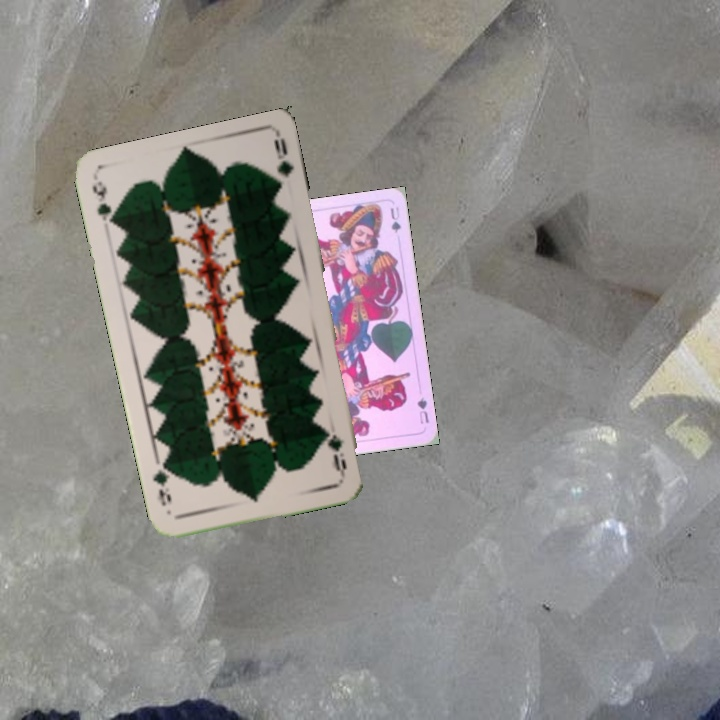G9: (88, 176, 119, 230), (327, 430, 350, 478)
GU: (413, 393, 431, 426)
